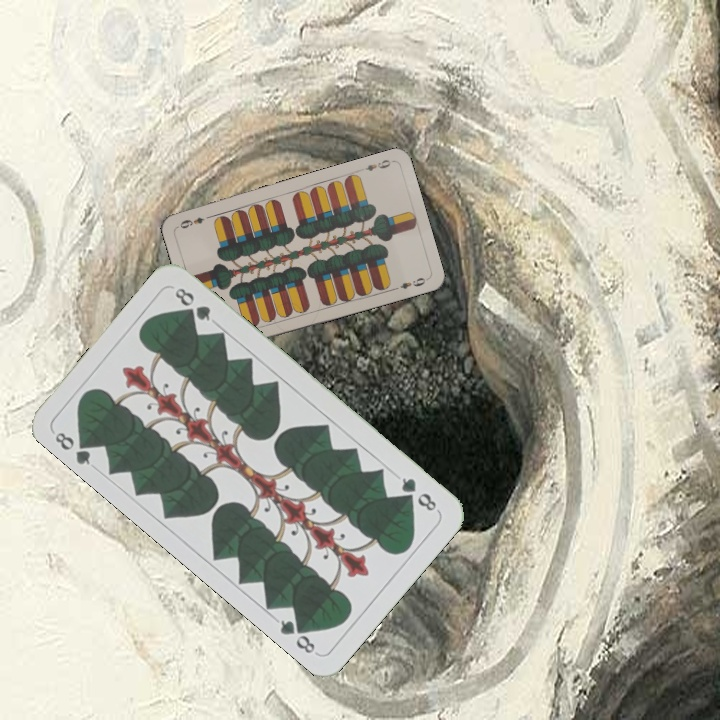E9: (355, 155, 393, 174)
G8: (50, 428, 96, 468), (397, 473, 440, 514)
